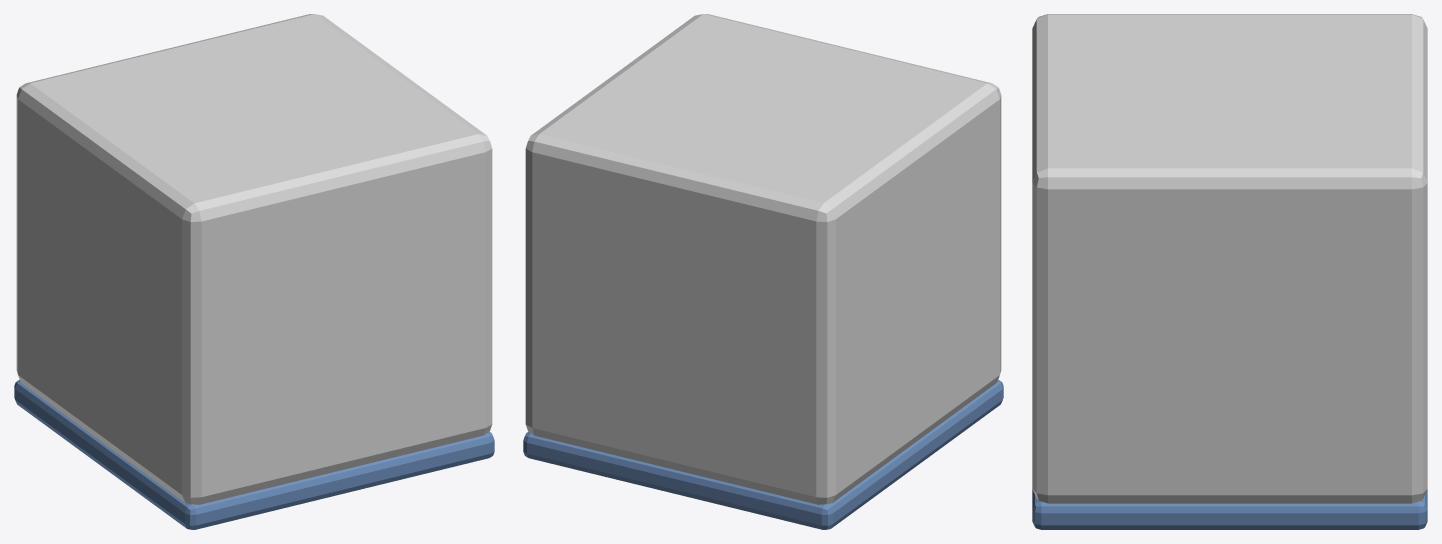
File: generic-cube.glb
3 views of the same model, side by side, from view 1: azimuth 30°, elevation 25°; view 2: azimuth 150°, elevation 25°; view 3: azimuth 270°, elevation 25° (orthographic). The views are drawn at different scales.
Visible parts, largest first — view 1: body, base; view 2: body, base; view 3: body, base.
Part boxes in pixels (left/top/right/bottom): body: left=16, top=14, right=492, bottom=504; base: left=14, top=379, right=494, bottom=529; body: left=525, top=14, right=1001, bottom=504; base: left=523, top=379, right=1003, bottom=529; body: left=1032, top=14, right=1427, bottom=503; base: left=1032, top=489, right=1427, bottom=529.
Size of the model in its own units: 1.5 by 1.5 by 1.5.
